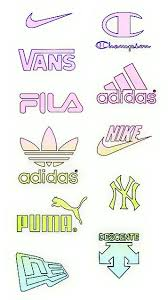adidas: (17, 126, 78, 185), (96, 62, 156, 104)
nike: (95, 135, 151, 156), (23, 11, 75, 29)
vans: (18, 48, 77, 73)
